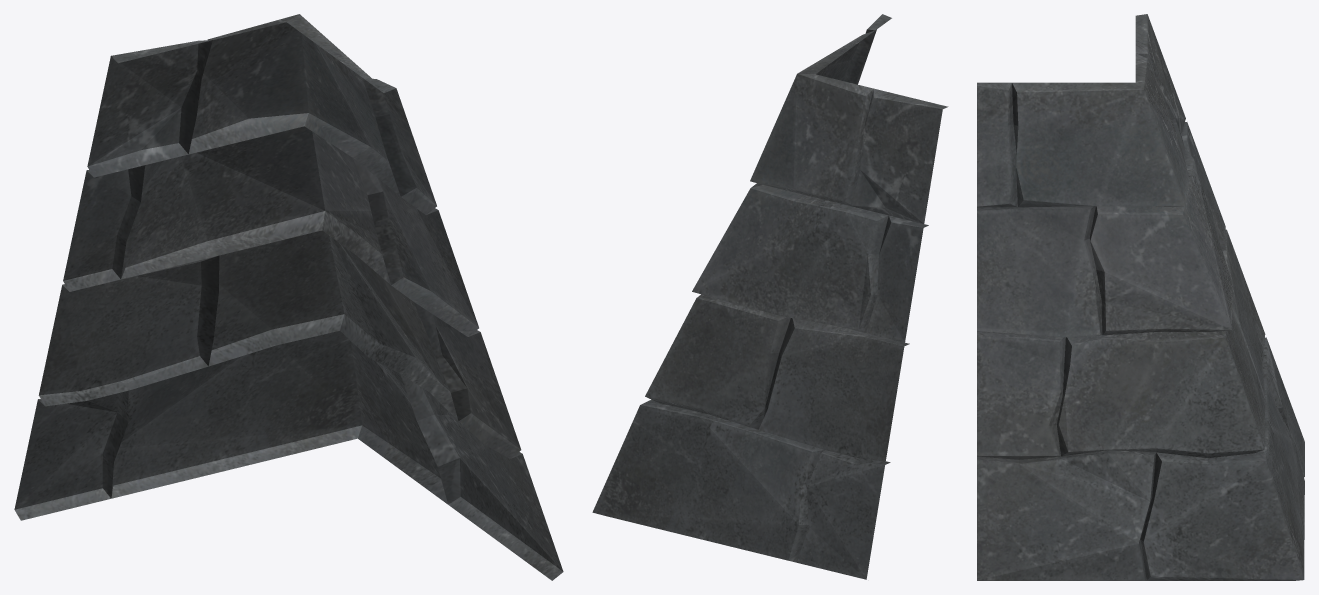
The model's file is WallInnerCurve.fbx.
The picture shows the model from 3 angles, left to right: view 1: azimuth 30°, elevation 25°; view 2: azimuth 150°, elevation 25°; view 3: azimuth 270°, elevation 25°; orthographic projection. The views are drawn at different scales.
Parts seen in each view (by area): view 1: WALL_InnerCurve; view 2: WALL_InnerCurve; view 3: WALL_InnerCurve.
Boxes of the visible parts, <box> form: WALL_InnerCurve: <box>14,14,563,580</box>; WALL_InnerCurve: <box>592,14,948,579</box>; WALL_InnerCurve: <box>977,14,1304,580</box>.
Size of the model in its own units: 8.27 by 12.05 by 8.27.
Materials: 1 (1 with a texture image).
